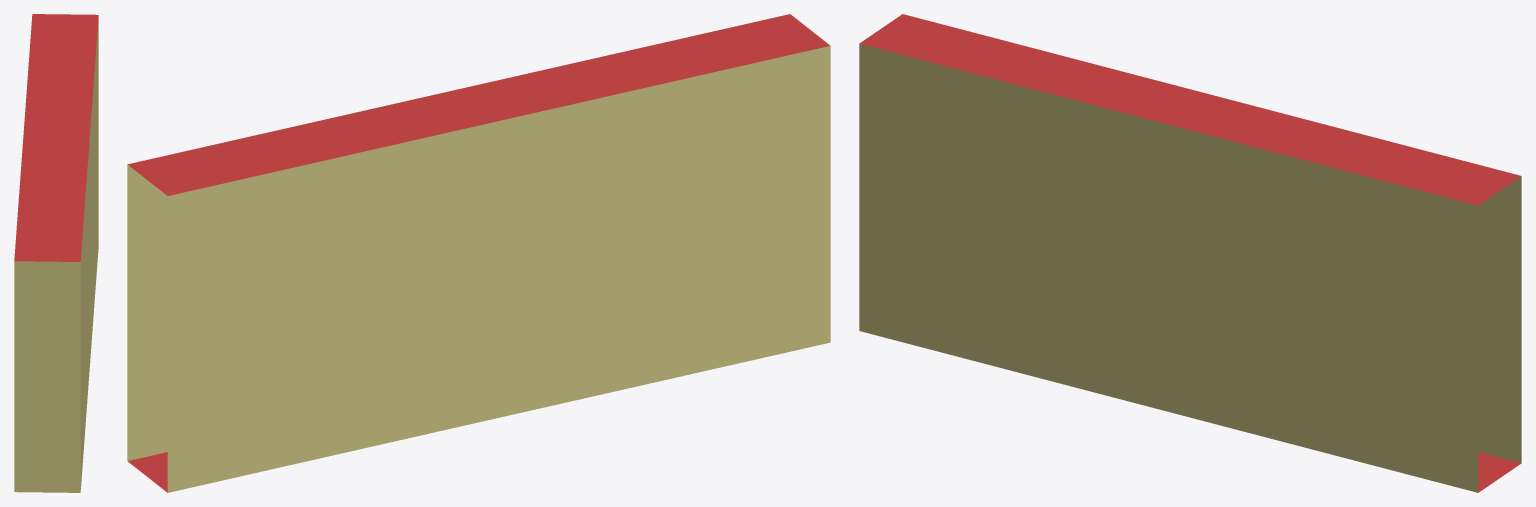
The picture shows the model from 3 angles, left to right: view 1: azimuth 30°, elevation 25°; view 2: azimuth 150°, elevation 25°; view 3: azimuth 270°, elevation 25°; orthographic projection. The views are drawn at different scales.
Visible parts, largest first — view 1: group_4, group_3; view 2: group_4, group_3, group_5; view 3: group_4, group_3, group_5.
Part boxes in pixels (bbox=[...]): group_4: bbox=[14, 18, 98, 492]; group_3: bbox=[14, 14, 98, 261]; group_4: bbox=[127, 46, 830, 492]; group_3: bbox=[128, 14, 830, 195]; group_5: bbox=[127, 452, 167, 492]; group_4: bbox=[859, 44, 1521, 492]; group_3: bbox=[859, 14, 1521, 205]; group_5: bbox=[1478, 452, 1521, 492].
Size of the model in its own units: 16.22 by 23.7 by 11.34.
